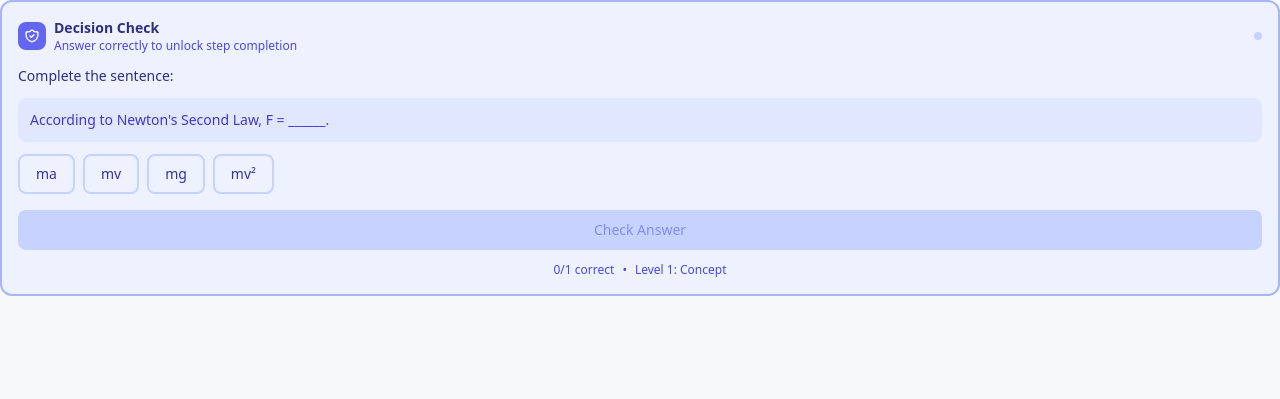
Scenario: DecisionGate › Fill-in-Blank Feedback › shows correct answer in feedback for wrong fill-blank answer
The width and height of the screenshot is (1280, 399).
Step 1. Click the button "mv" → (111, 174), box [83,154,139,194]
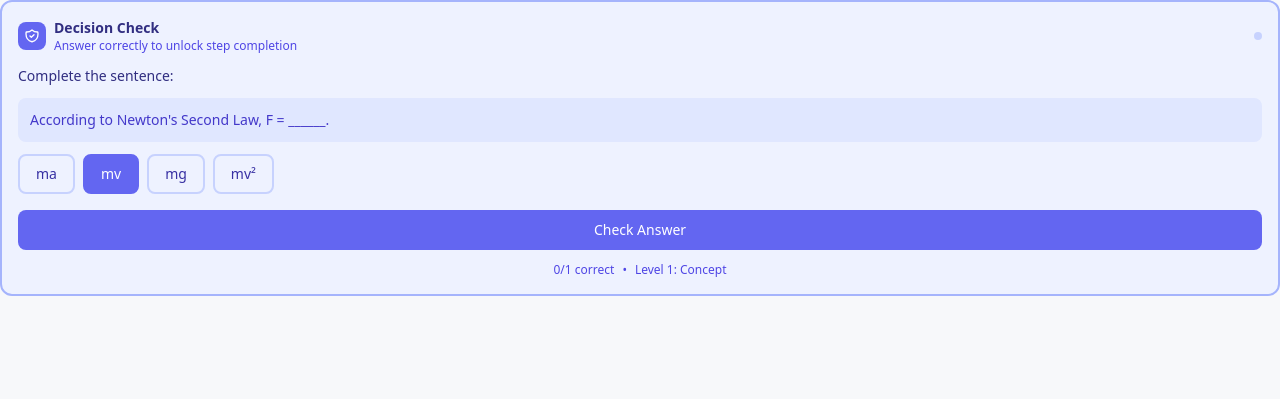
Step 2. Click the button "Check Answer" → (640, 230), box [18,210,1262,250]
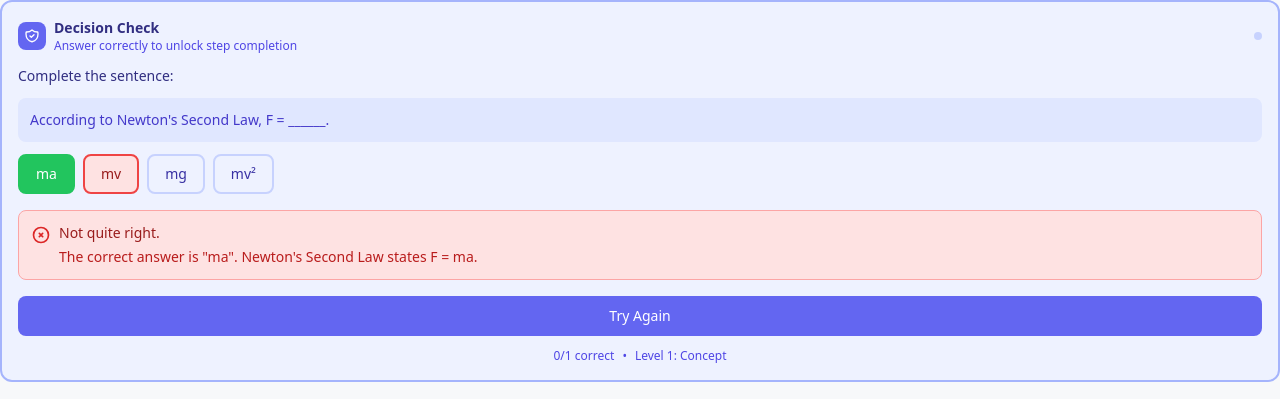
Expected: the text "The correct answer is \"ma\"" is shown, [59,247,478,266]
